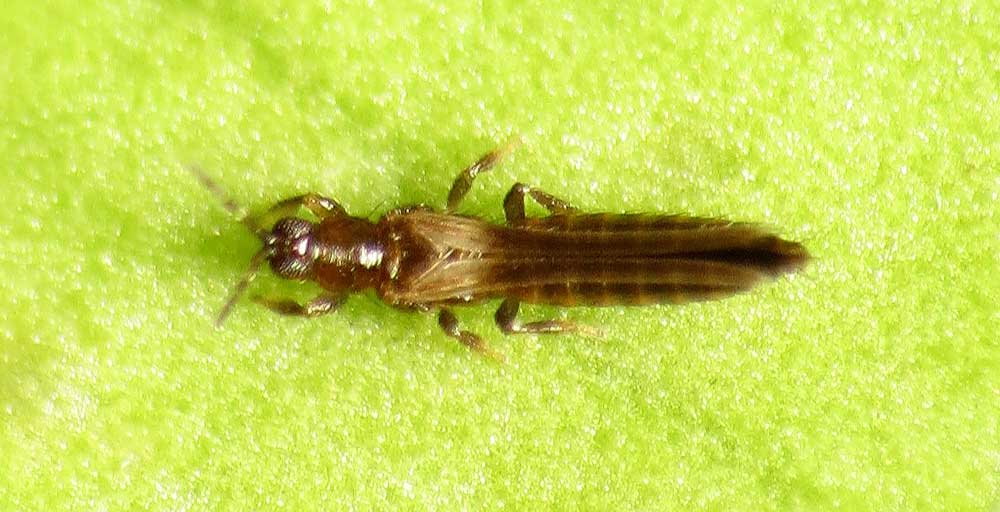Thrips: (178, 136, 849, 384)
